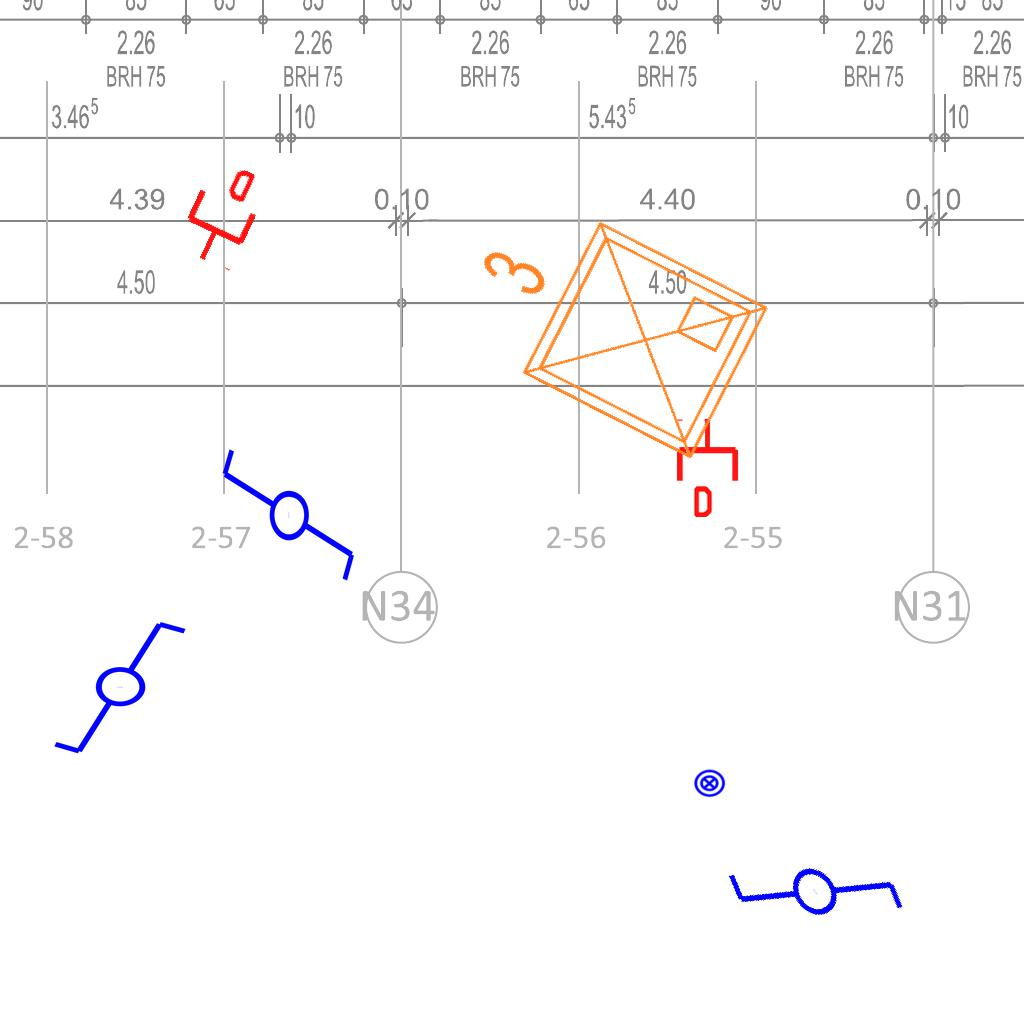Datenanschluss_einfach: (170, 155, 275, 275), (673, 417, 742, 517)
Einbaudownlights_LED_Konferenzraeume: (426, 164, 788, 486)
Taster_beleuchtet: (693, 767, 726, 800)
Wechselschalter: (706, 777, 917, 991), (50, 617, 207, 761), (215, 445, 359, 602)
